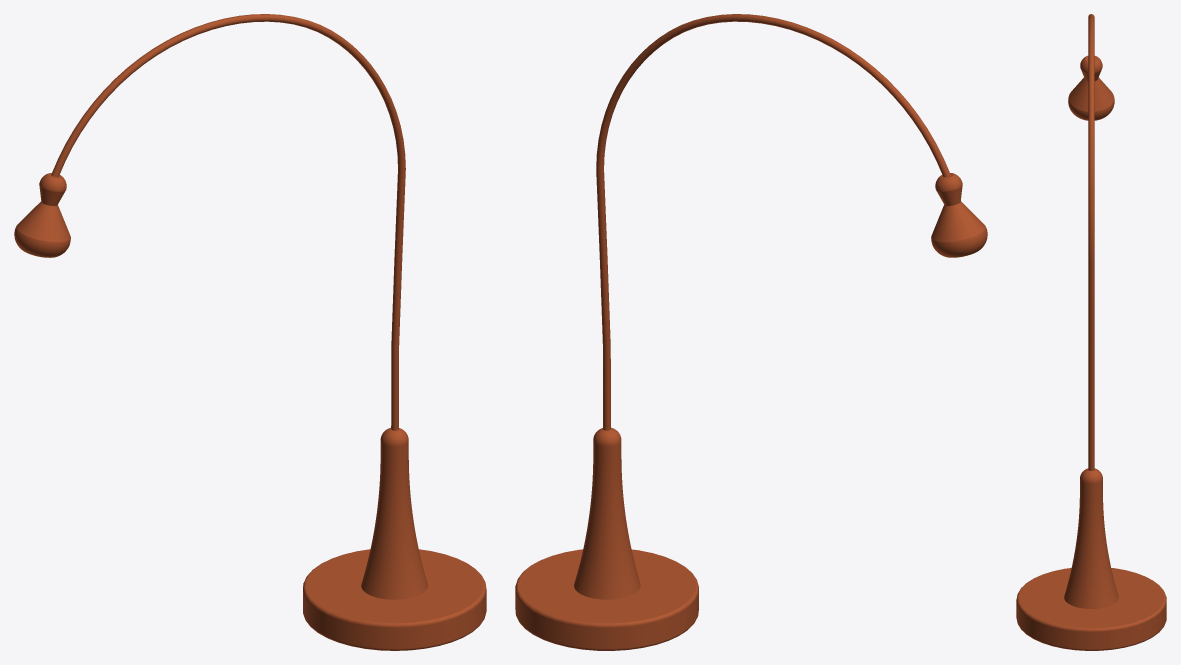
The model's file is JANSJO_LED_Work_Light.obj.
The picture shows the model from 3 angles, left to right: view 1: azimuth 30°, elevation 25°; view 2: azimuth 150°, elevation 25°; view 3: azimuth 270°, elevation 25°; orthographic projection. The views are drawn at different scales.
Parts seen in each view (by area): view 1: Line003, Line012, Line013, Line009; view 2: Line003, Line012, Line013, Line009; view 3: Line003, Line012, Line013, Line009.
Part boxes in pixels (left/top/right/bottom): Line003: left=303, top=549, right=486, bottom=650; Line012: left=361, top=428, right=427, bottom=599; Line013: left=51, top=14, right=405, bottom=430; Line009: left=14, top=173, right=70, bottom=257; Line003: left=515, top=549, right=698, bottom=650; Line012: left=574, top=427, right=640, bottom=599; Line013: left=596, top=14, right=950, bottom=430; Line009: left=931, top=173, right=987, bottom=257; Line003: left=1016, top=568, right=1166, bottom=650; Line012: left=1064, top=468, right=1118, bottom=608; Line013: left=1088, top=14, right=1094, bottom=470; Line009: left=1068, top=55, right=1114, bottom=120.
Bounding box in the file's own units: 452 × 603 × 158.
